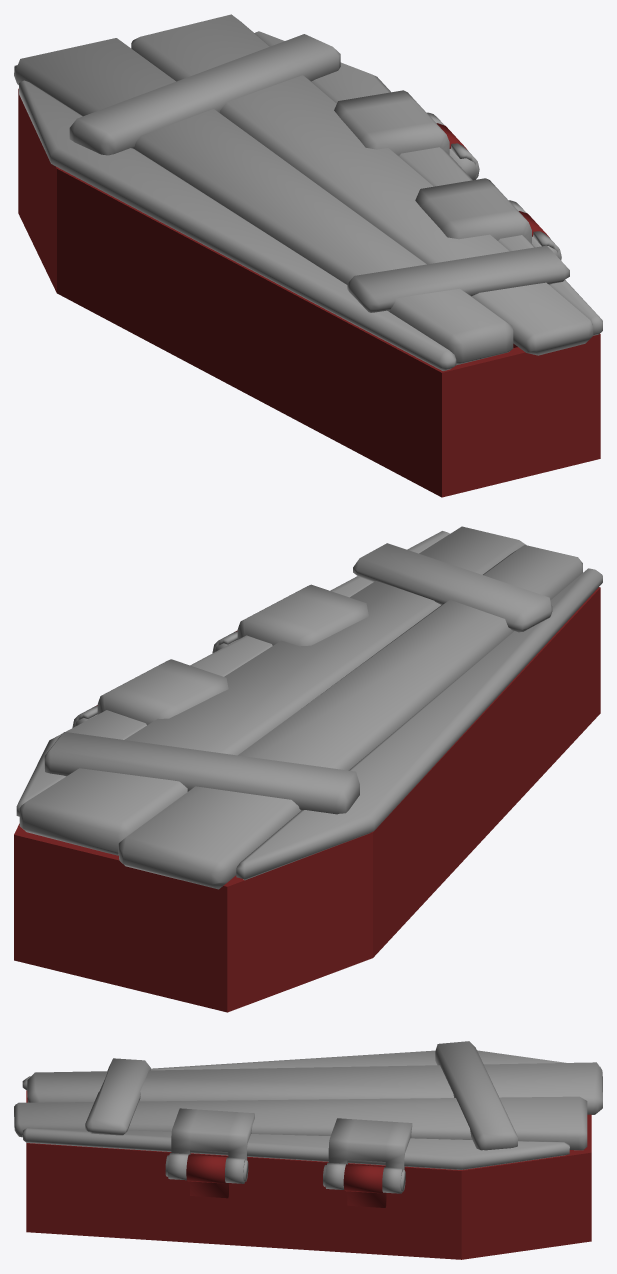
File: Coffin_Low.FBX
The picture shows the model from 3 angles, top to bottom: view 1: azimuth 30°, elevation 25°; view 2: azimuth 150°, elevation 25°; view 3: azimuth 270°, elevation 25°; orthographic projection. The views are drawn at different scales.
Parts seen in each view (by area): view 1: Top, Bot; view 2: Top, Bot; view 3: Top, Bot.
Part boxes in pixels (x1,y1,x2,y2): Top: (14, 14, 602, 370); Bot: (18, 88, 600, 497); Top: (16, 526, 602, 889); Bot: (14, 587, 600, 1012); Top: (14, 1041, 602, 1193); Bot: (26, 1090, 591, 1259).
Size of the model in its own units: 97.83 by 44.64 by 203.
